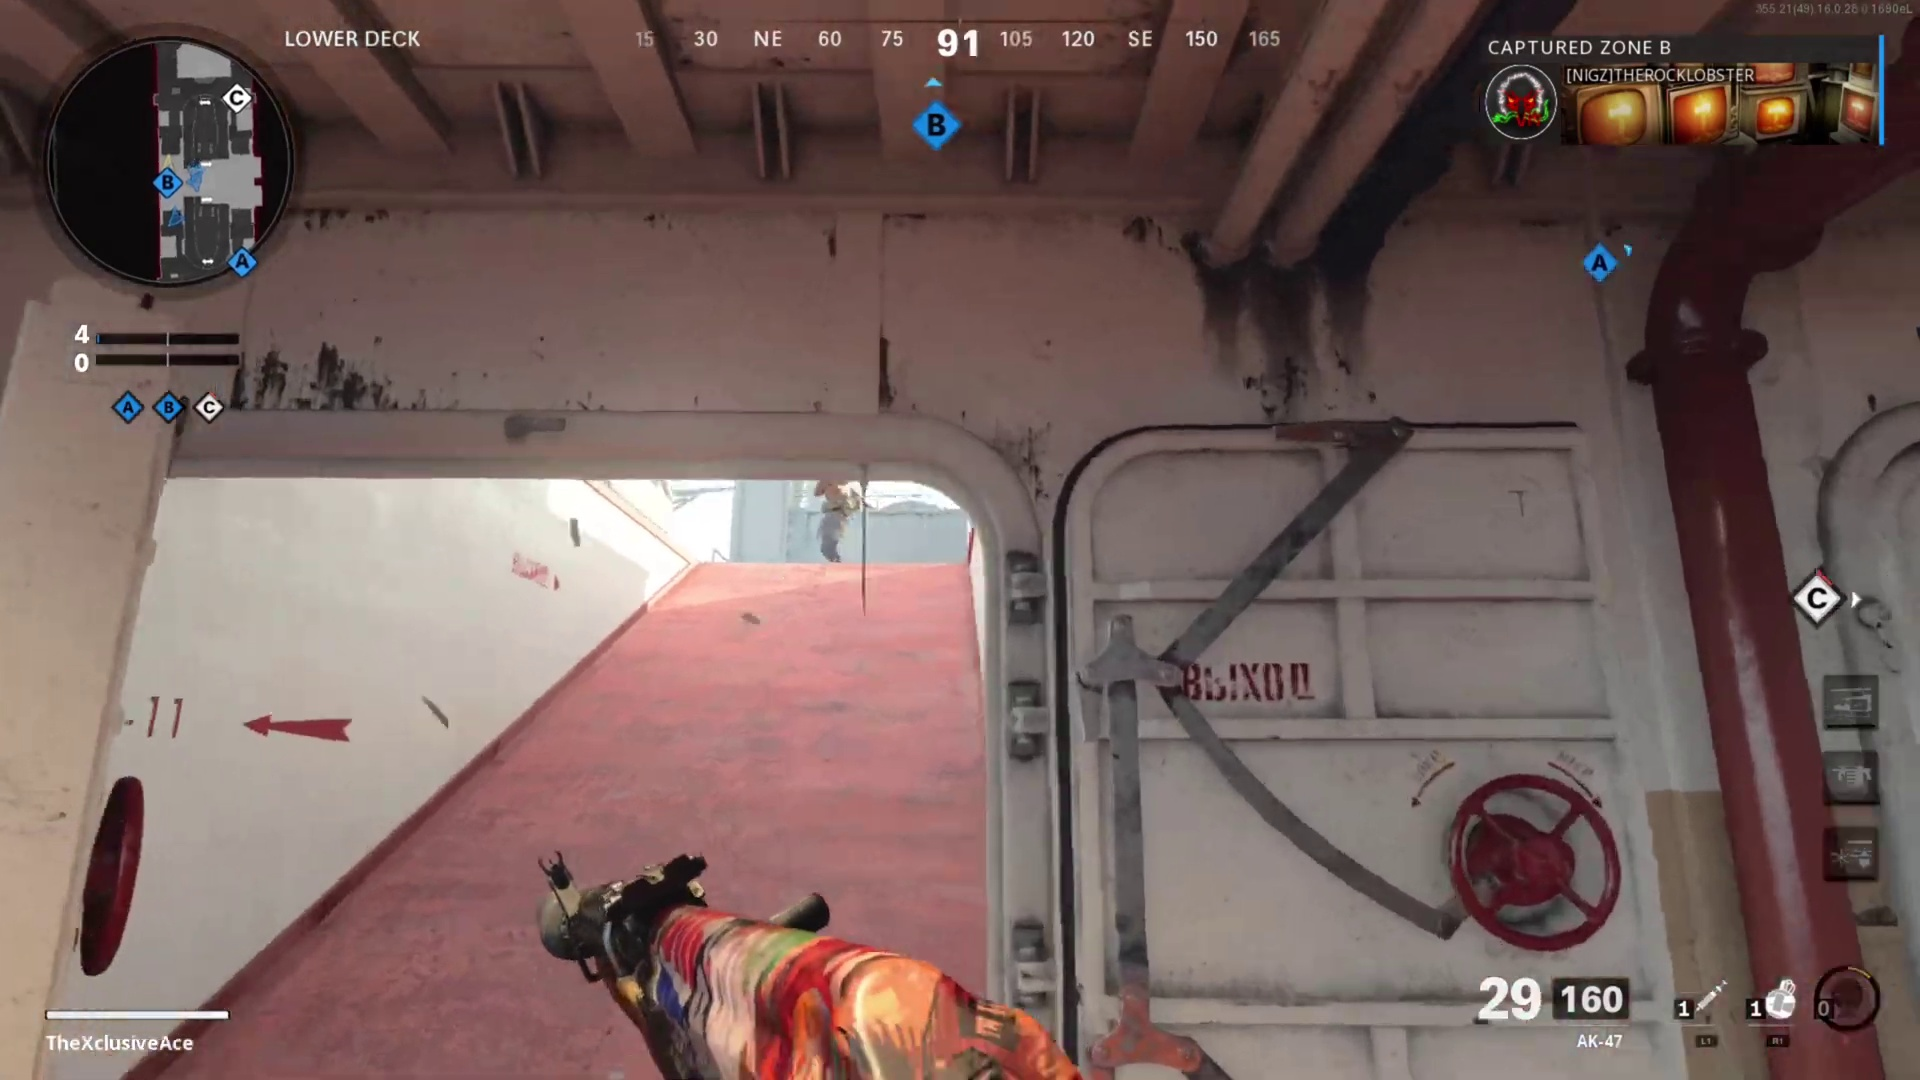person: (811, 477, 858, 562)
